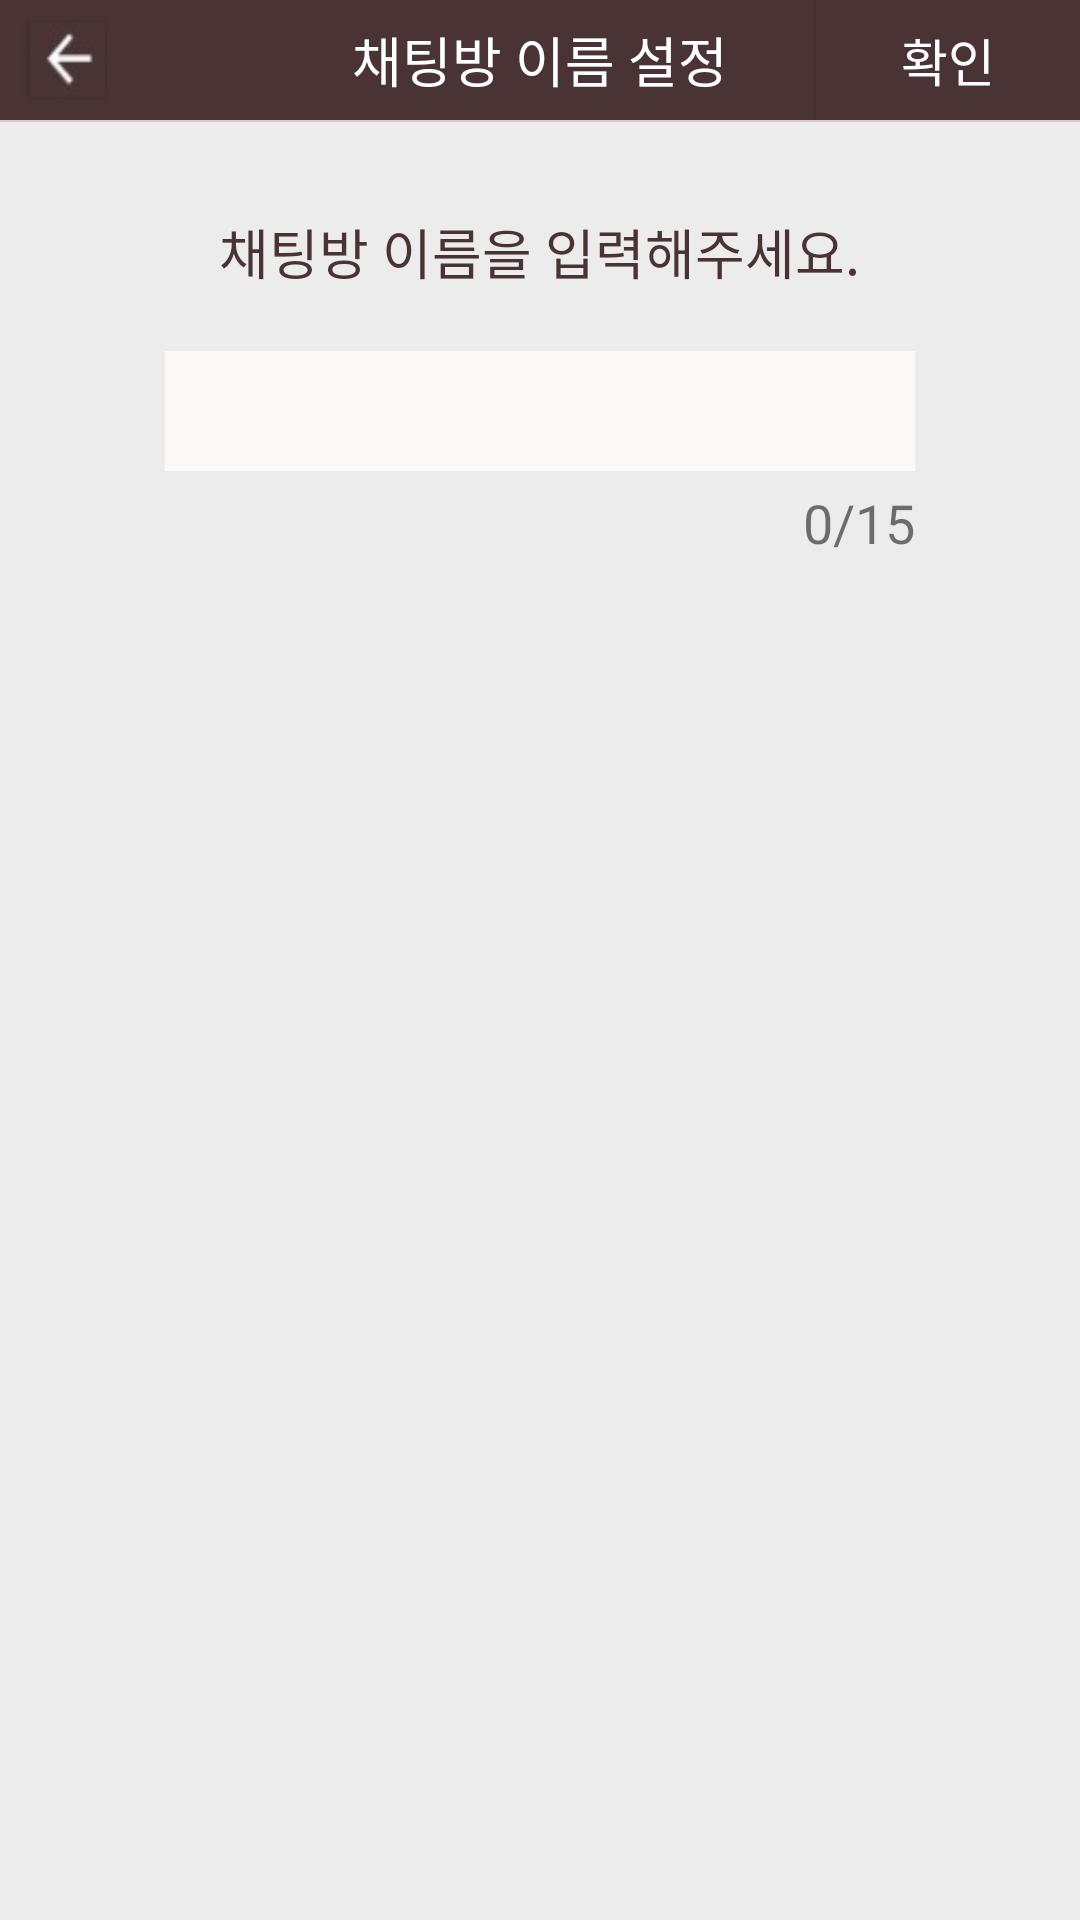

Screen size 1080×1920. Icon name, then its center in pixels as [x,y]:
back: [69,59]
